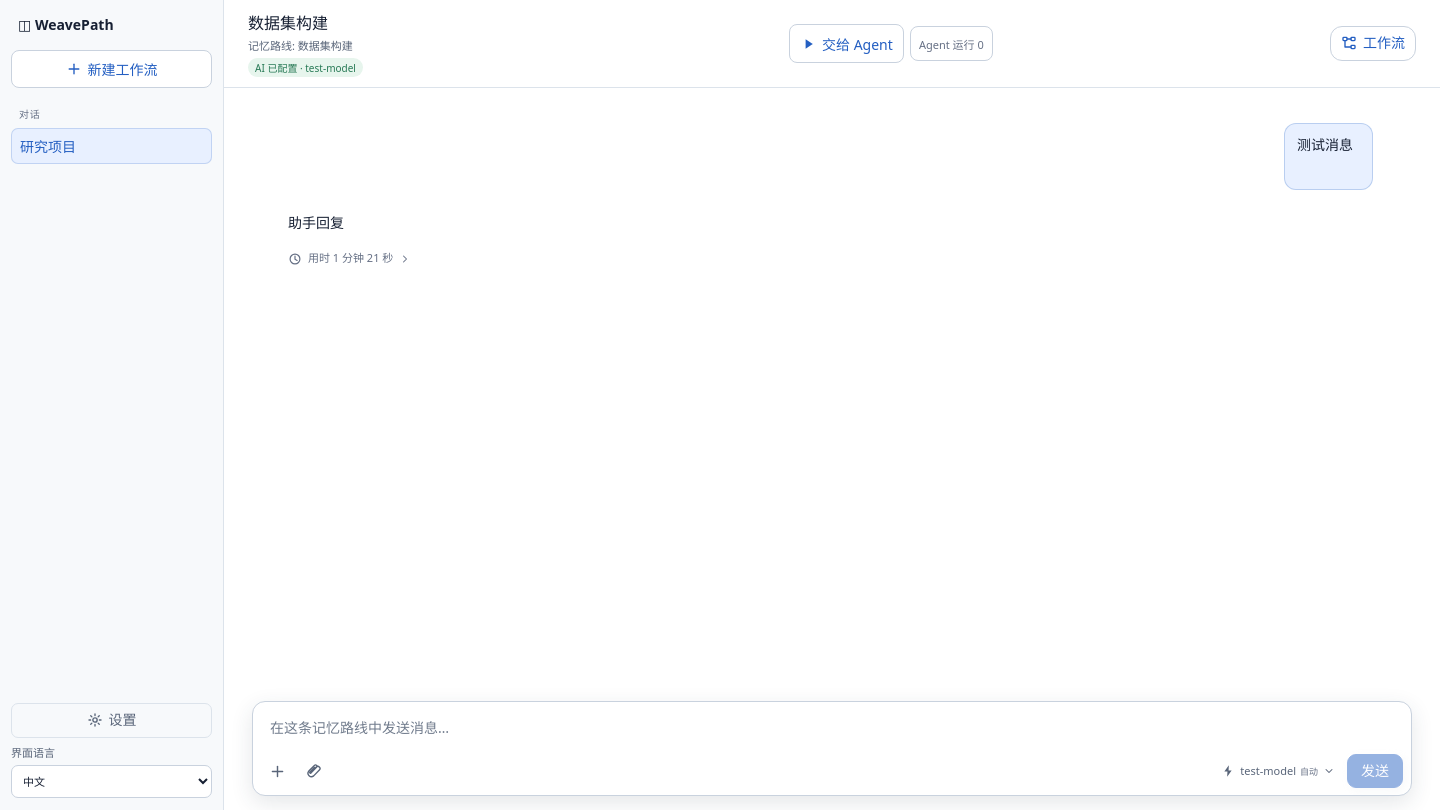
Test case: chat delivery mode › shows elapsed time below an ordinary reply and expands real cache accounting
Expected: the text "助手回复" is shown, [288,213,344,232]
Expected: the text "用时 1 分钟 21 秒" is shown, [308,250,393,268]
Click the heading named "回复详情". click: (350, 258)
box: [288,250,411,266]
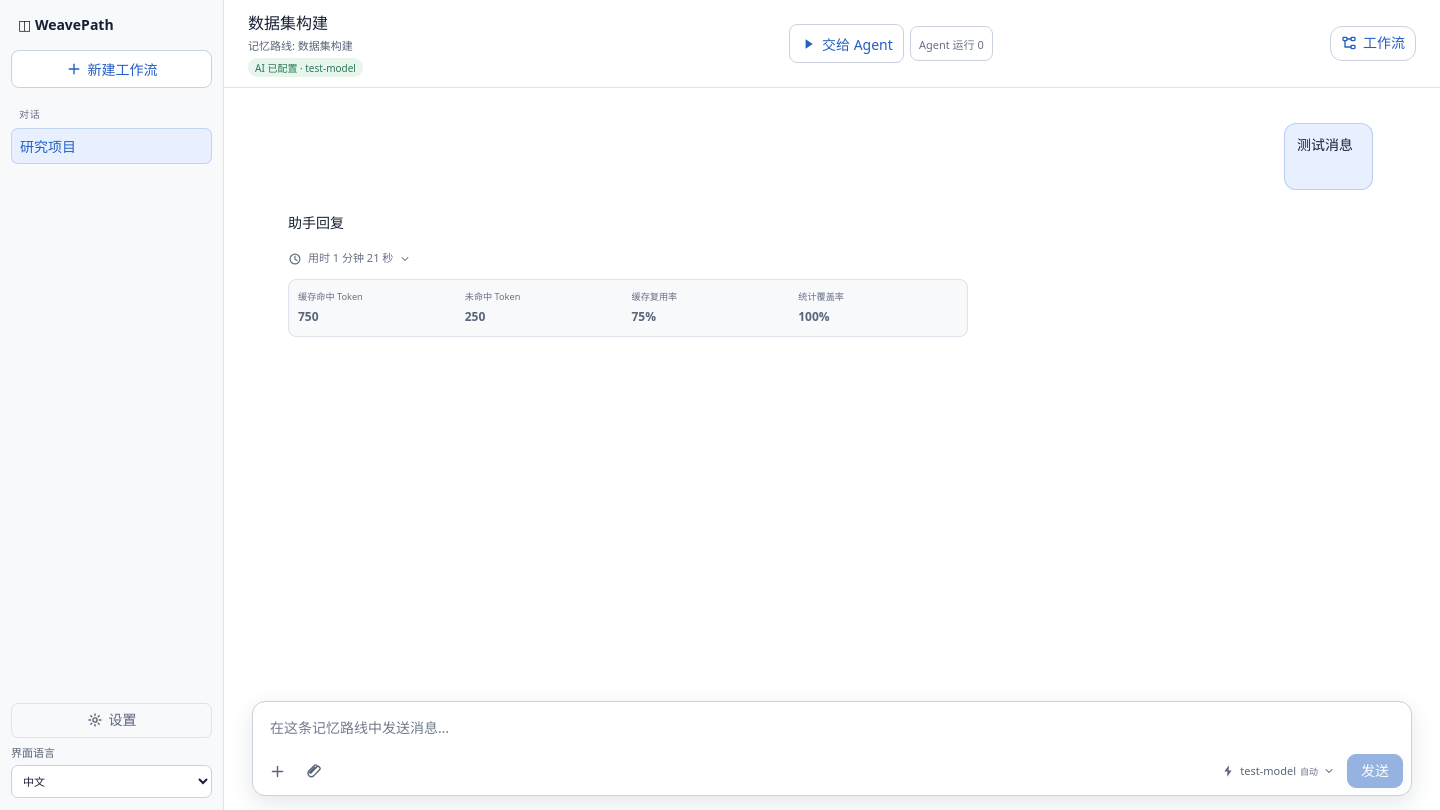
Now the text "750" is shown, box [298,308,319,325]
Now the text "250" is shown, box [465,308,485,325]
Now the text "75%" is shown, box [632,308,656,325]
